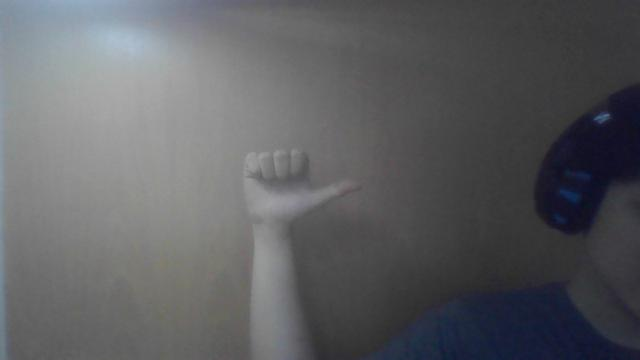left: (237, 147, 369, 229)
